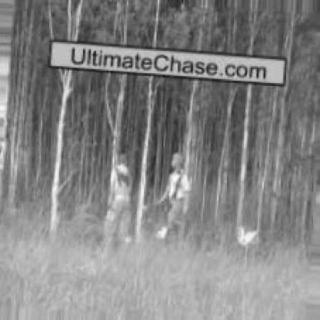Fire: (228, 222, 270, 255)
